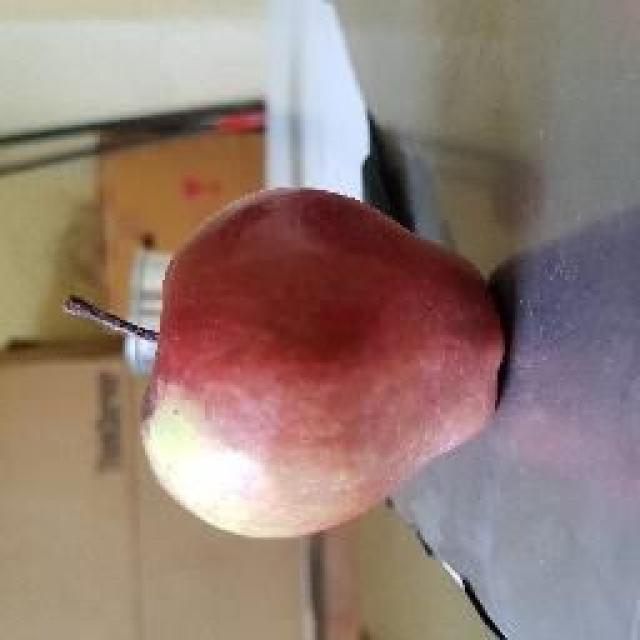Good_Apple: (138, 188, 508, 542)
